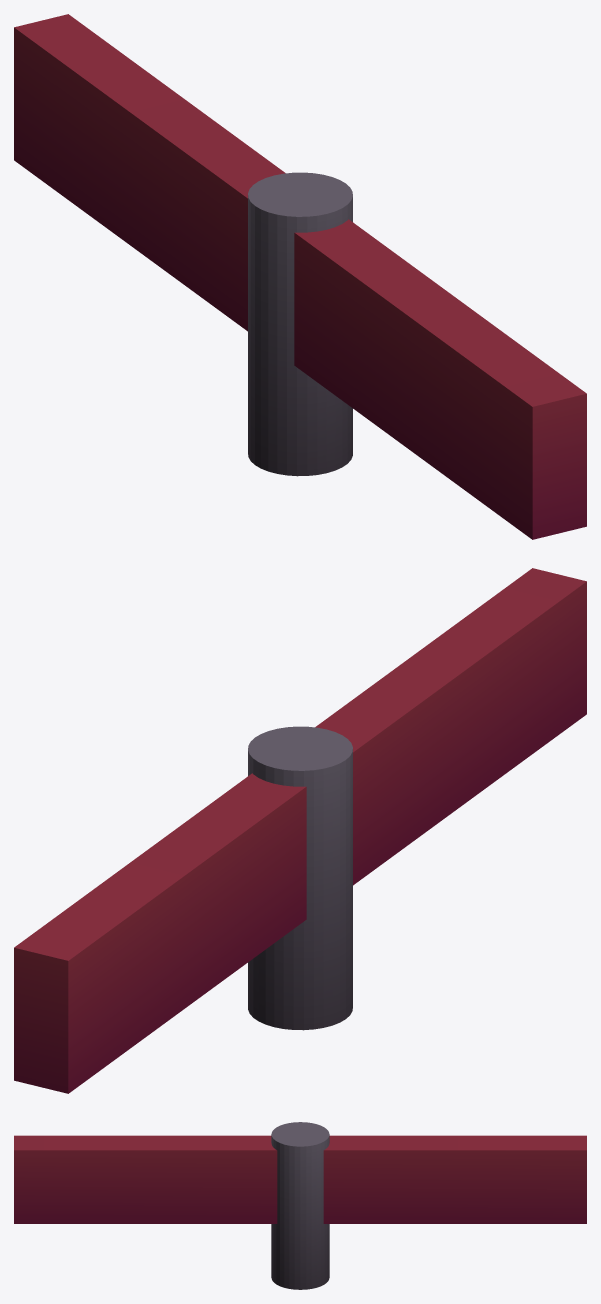
The model's file is Spinner.fbx.
The picture shows the model from 3 angles, top to bottom: view 1: azimuth 30°, elevation 25°; view 2: azimuth 150°, elevation 25°; view 3: azimuth 270°, elevation 25°; orthographic projection. The views are drawn at different scales.
Parts seen in each view (by area): view 1: Cube, Cylinder.002; view 2: Cube, Cylinder.002; view 3: Cube, Cylinder.002.
Part boxes in pixels (<box>): Cube: <box>14,14,586,539</box>; Cylinder.002: <box>248,172,352,476</box>; Cube: <box>14,568,586,1093</box>; Cylinder.002: <box>248,726,352,1030</box>; Cube: <box>14,1135,586,1223</box>; Cylinder.002: <box>271,1122,329,1289</box>.
Size of the model in its own units: 268 by 729 by 2642.
Materials: 1 (1 with a texture image).
